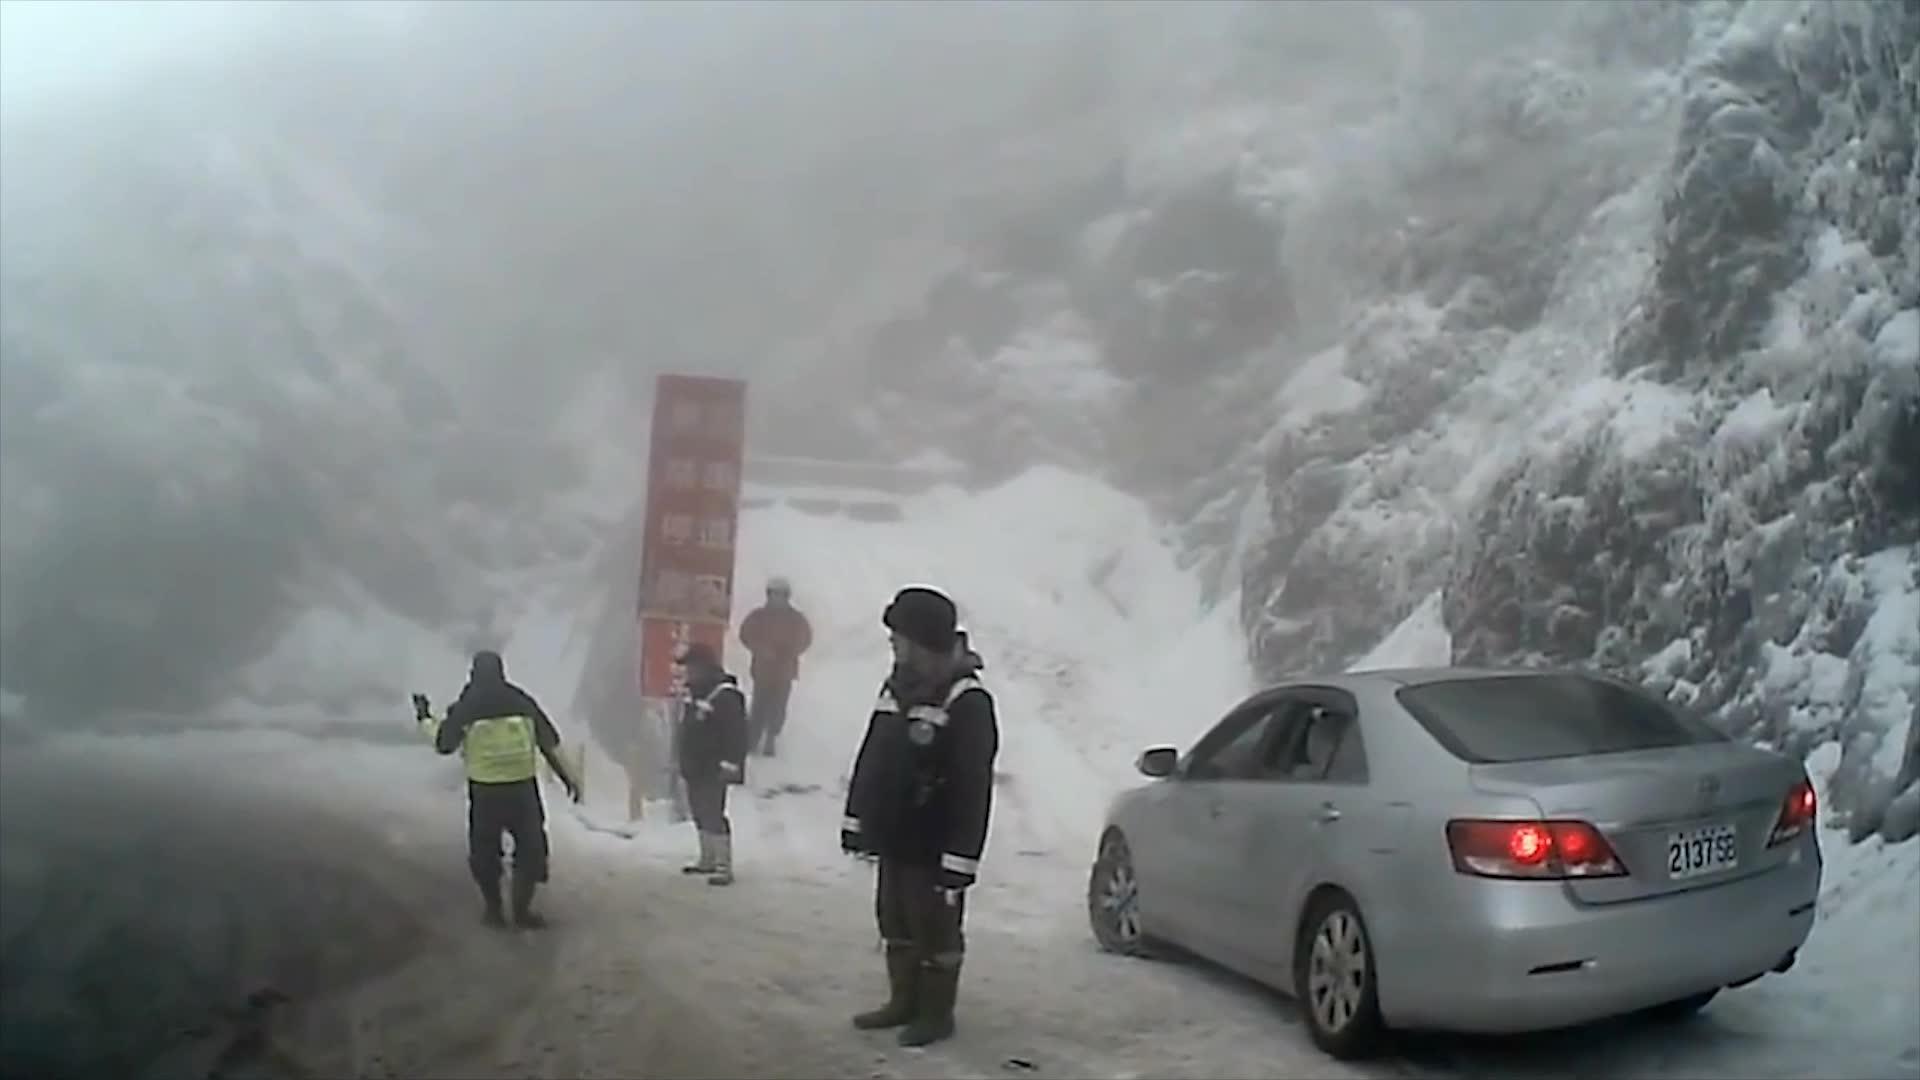pedestrian: (842, 588, 1010, 1048), (417, 653, 584, 931), (671, 642, 754, 886), (744, 577, 812, 759)
vehicle: (1088, 672, 1822, 1063)
